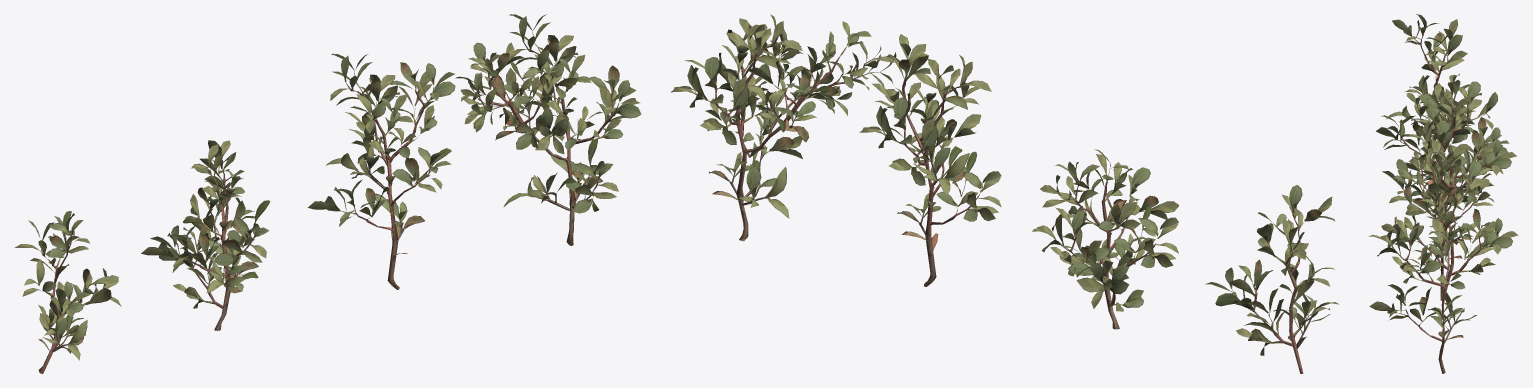
The model's file is shrub_04_lod.glb.
The picture shows the model from 3 angles, left to right: view 1: azimuth 30°, elevation 25°; view 2: azimuth 150°, elevation 25°; view 3: azimuth 270°, elevation 25°; orthographic projection. The views are drawn at different scales.
Parts seen in each view (by area): view 1: shrub_04; view 2: shrub_04; view 3: shrub_04.
Part boxes in pixels (<box>): shrub_04: <box>14,14,641,373</box>; shrub_04: <box>671,14,1339,373</box>; shrub_04: <box>1368,14,1518,373</box>.
Size of the model in its own units: 0.5837 by 0.2192 by 0.1461.
Materials: 1 (1 with a texture image).
